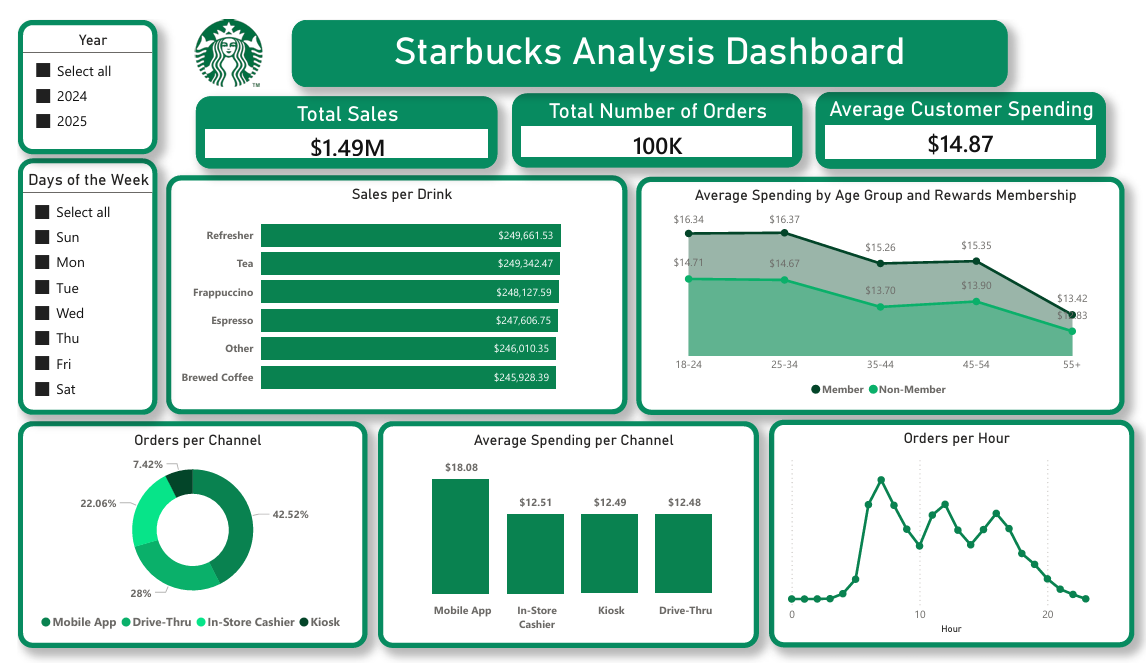

The dashboard page shown, as its layout file describes it:
{"tool":"powerbi","page":{"name":"Page 1","canvas":[1280,720],"ordinal":0},"visuals":[{"type":"barChart","title":"Sales per Drink","fields":{"Category":["starbucks_customer_ordering_patterns.drink_category"],"Y":["Sum(starbucks_customer_ordering_patterns.total_spend)"]},"box":[170,178,529,274],"z":0},{"type":"donutChart","title":"Orders per Channel","fields":{"Category":["starbucks_customer_ordering_patterns.order_channel"],"Y":["CountNonNull(starbucks_customer_ordering_patterns.order_channel)"]},"box":[0,460,401,260],"z":1000},{"type":"areaChart","title":"Average Spending by Age Group and Rewards Membership","fields":{"Category":["starbucks_customer_ordering_patterns.customer_age_group"],"Y":["Avg(starbucks_customer_ordering_patterns.total_spend)"],"Series":["starbucks_customer_ordering_patterns.Rewards_Member"]},"box":[710,179,560,273],"z":2000},{"type":"slicer","title":"Days of the Week","fields":{"Values":["starbucks_customer_ordering_patterns.day_of_week"]},"box":[0,158.6,160,294.3],"z":3000},{"type":"lineChart","title":"Orders per Hour","fields":{"Category":["starbucks_customer_ordering_patterns.Hour"],"Y":["CountNonNull(starbucks_customer_ordering_patterns.order_id)"]},"box":[861.4,458.6,418.6,261.4],"z":4000},{"type":"cardVisual","title":"Total Sales","fields":{"Data":["Sum(starbucks_customer_ordering_patterns.total_spend)"]},"box":[203.8,87.5,346.2,82.5],"z":5000},{"type":"cardVisual","title":"Total Number of Orders","fields":{"Data":["Count(starbucks_customer_ordering_patterns.order_id)"]},"box":[567.5,85,332.5,85],"z":6000},{"type":"cardVisual","title":"Average Customer Spending","fields":{"Data":["Avg(starbucks_customer_ordering_patterns.total_spend)"]},"box":[915,82.5,332.5,87.5],"z":7000},{"type":"slicer","title":"Year","fields":{"Values":["starbucks_customer_ordering_patterns.order_date"]},"box":[0,0,160,154.3],"z":8000},{"type":"columnChart","title":"Average Spending per Channel","fields":{"Category":["starbucks_customer_ordering_patterns.order_channel"],"Y":["Avg(starbucks_customer_ordering_patterns.total_spend)"]},"box":[412.9,460,437.1,260],"z":9000},{"type":"image","box":[170.3,0,144.1,77.1],"z":10000},{"type":"textbox","box":[314.4,0,820.9,77.1],"z":11000}]}

Visuals, with their boxes in screenshot pixels (x1, y1, x2, y2), scaled from the page's 1280x720 canvas onto the 1146x663 screenshot:
"Sales per Drink" barChart: <bbox>152, 164, 626, 416</bbox>
"Orders per Channel" donutChart: <bbox>0, 424, 359, 662</bbox>
"Average Spending by Age Group and Rewards Membership" areaChart: <bbox>636, 165, 1137, 416</bbox>
"Days of the Week" slicer: <bbox>0, 146, 143, 417</bbox>
"Orders per Hour" lineChart: <bbox>771, 422, 1145, 662</bbox>
"Total Sales" cardVisual: <bbox>182, 81, 492, 157</bbox>
"Total Number of Orders" cardVisual: <bbox>508, 78, 806, 157</bbox>
"Average Customer Spending" cardVisual: <bbox>819, 76, 1117, 157</bbox>
"Year" slicer: <bbox>0, 0, 143, 142</bbox>
"Average Spending per Channel" columnChart: <bbox>370, 424, 761, 662</bbox>
image: <bbox>152, 0, 281, 71</bbox>
textbox: <bbox>281, 0, 1016, 71</bbox>
